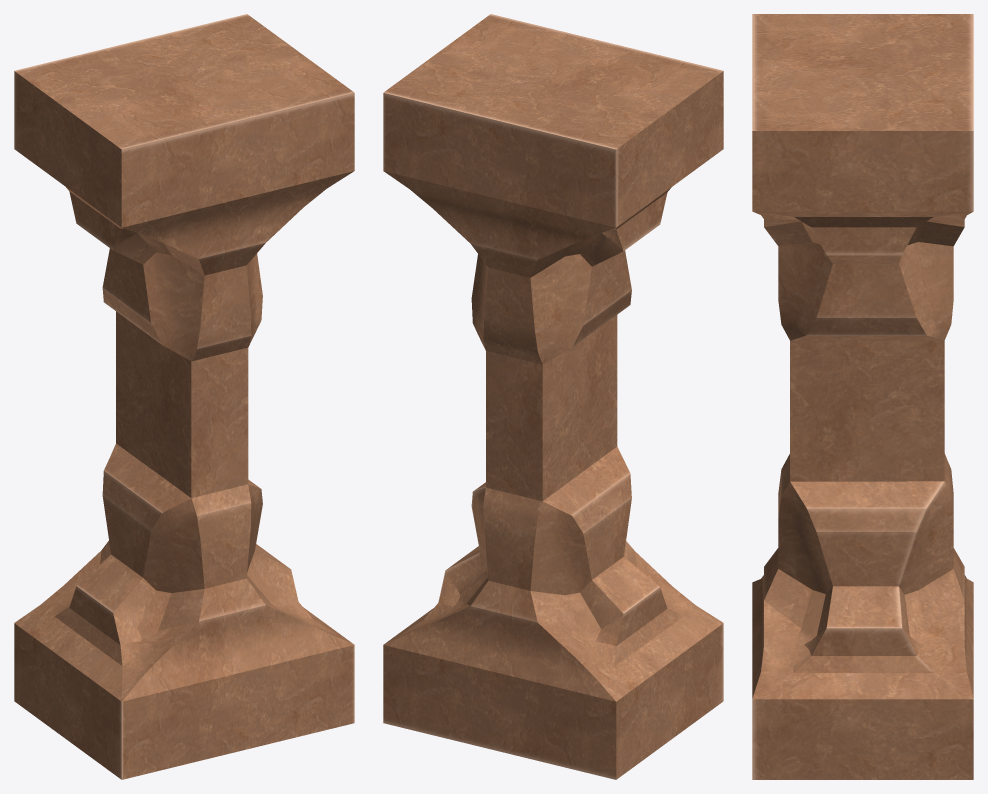
Rendered from Columna6.fbx.
The picture shows the model from 3 angles, left to right: view 1: azimuth 30°, elevation 25°; view 2: azimuth 150°, elevation 25°; view 3: azimuth 270°, elevation 25°; orthographic projection. The views are drawn at different scales.
Parts seen in each view (by area): view 1: Cube.014; view 2: Cube.014; view 3: Cube.014.
Part boxes in pixels (x1,y1,x2,y2): Cube.014: [14, 14, 354, 779]; Cube.014: [383, 14, 723, 779]; Cube.014: [752, 14, 973, 779].
Bounding box in the file's own units: 715 × 1849 × 572.
1 material, 1 textured.
